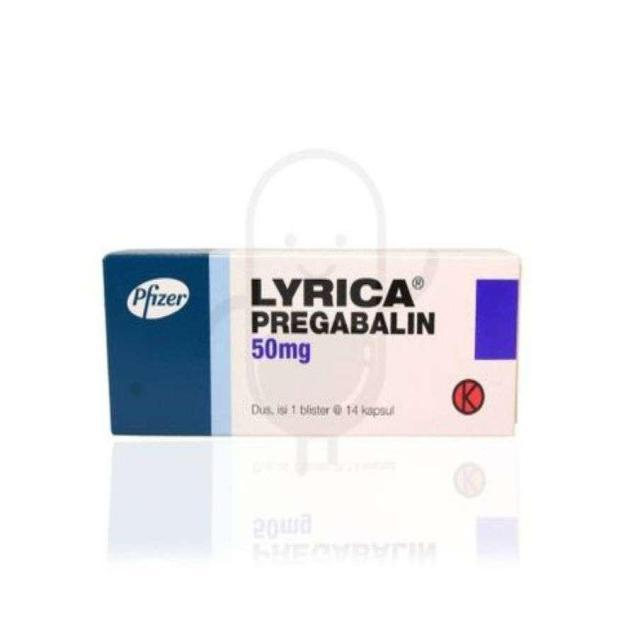drug-name: (248, 274, 422, 308)
